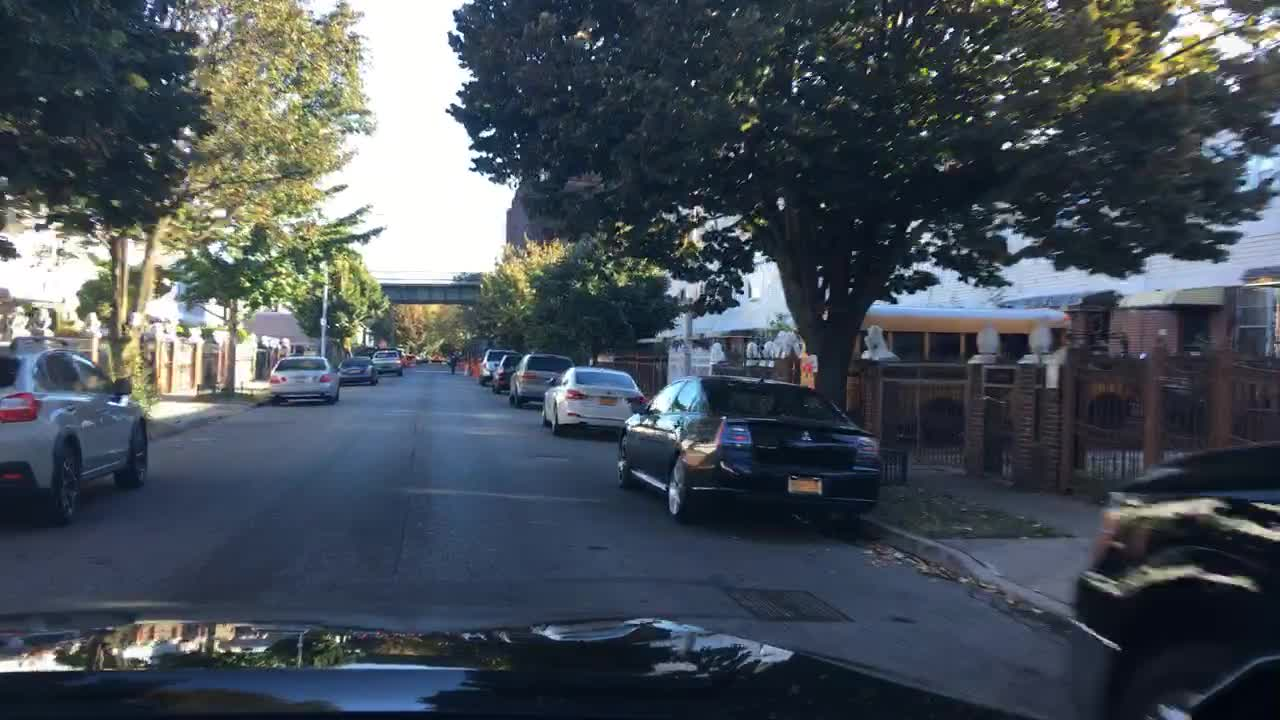bus: (822, 304, 1130, 440)
car: (1065, 440, 1277, 718), (614, 374, 882, 521), (0, 335, 149, 523), (539, 365, 647, 437), (265, 354, 341, 407), (506, 351, 570, 409), (476, 347, 518, 386), (336, 355, 378, 386), (489, 353, 521, 393), (369, 350, 404, 377), (401, 354, 415, 368)
person: (447, 354, 457, 373)
traffic sign: (380, 281, 479, 303)
